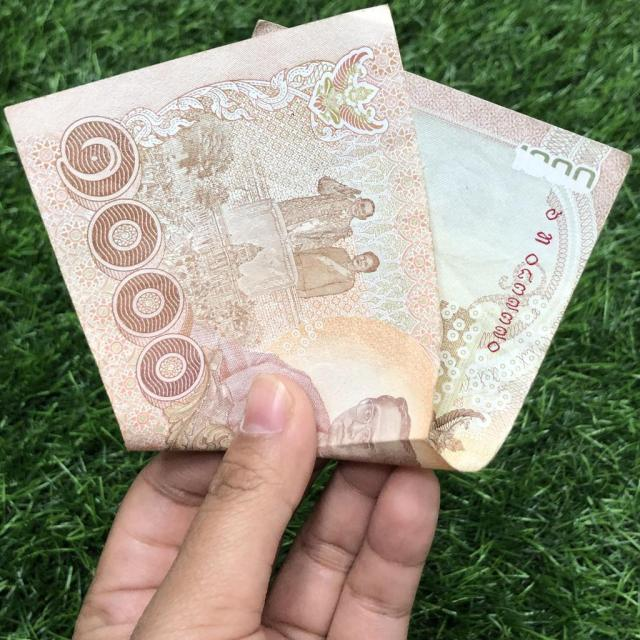THAI1000: (6, 6, 629, 471)
